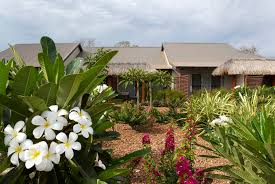frangipani: (57, 132, 81, 159)
